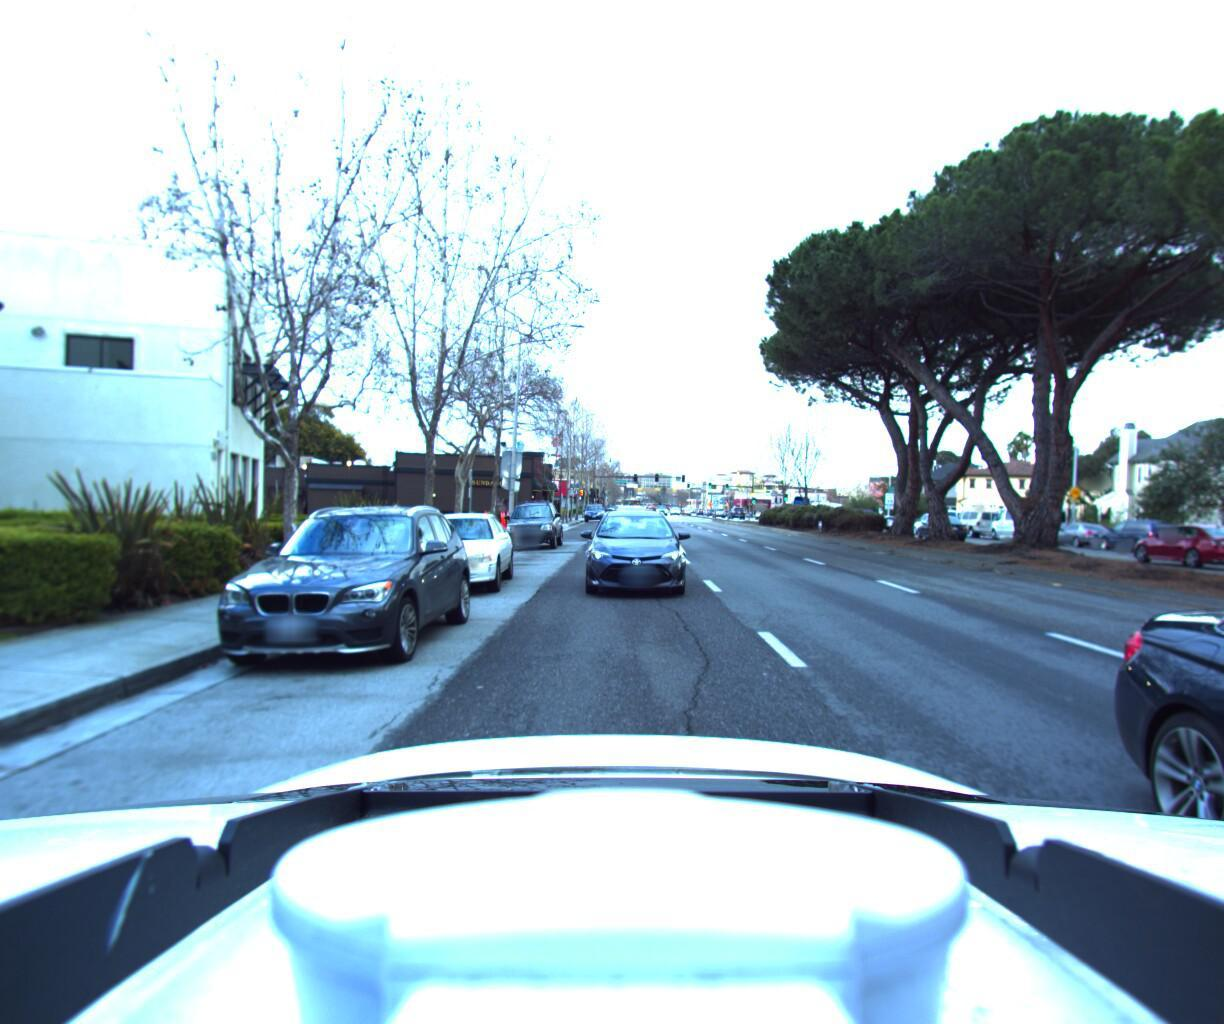car: (181, 501, 482, 689), (387, 507, 507, 603), (575, 508, 680, 602), (1105, 517, 1224, 566), (980, 497, 1072, 547), (1088, 515, 1194, 556), (498, 495, 564, 552), (1039, 518, 1118, 550), (943, 503, 1006, 539), (916, 507, 969, 536), (906, 513, 962, 539), (582, 502, 605, 522)
